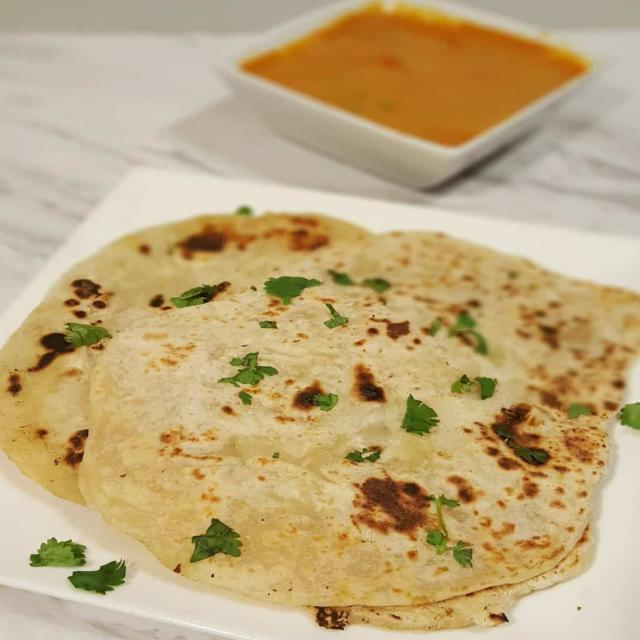roti: (0, 210, 640, 633)
